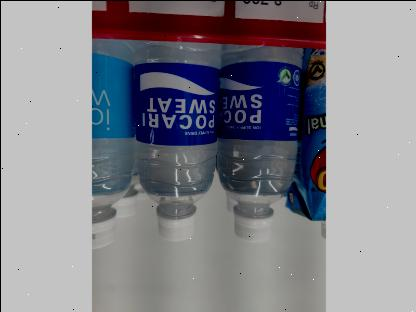Plastic Bottle: (133, 0, 215, 240), (216, 0, 296, 242)
